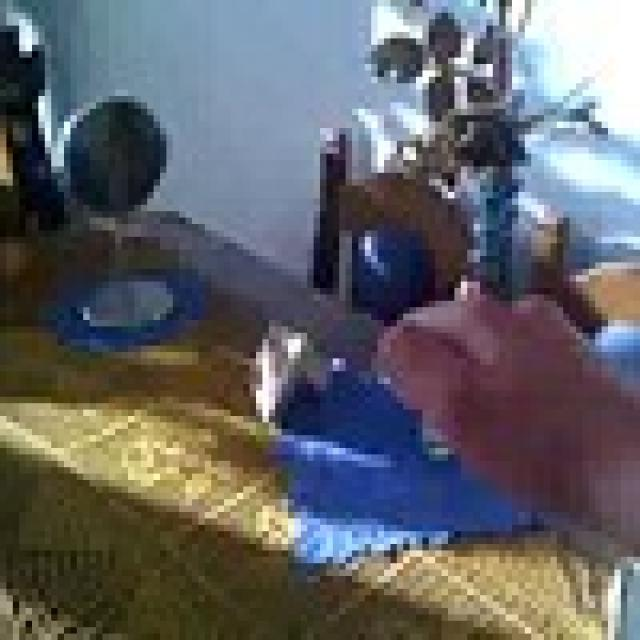Knife: (102, 198, 436, 422)
